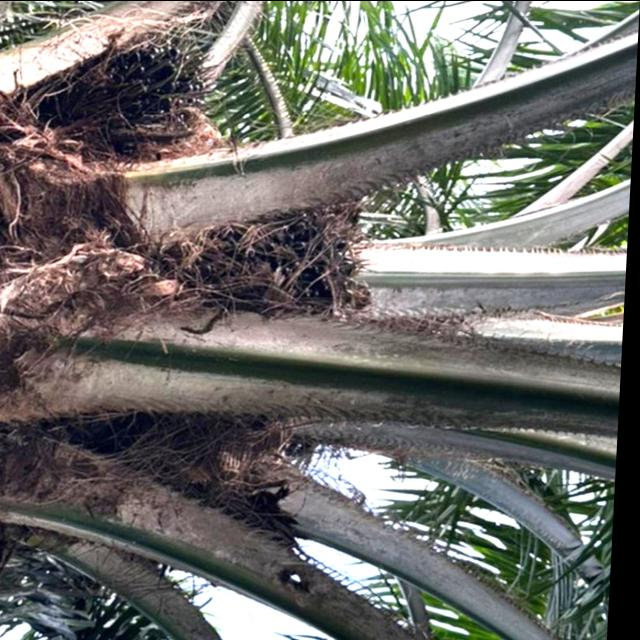unripe: (135, 190, 382, 326), (10, 28, 215, 154)
